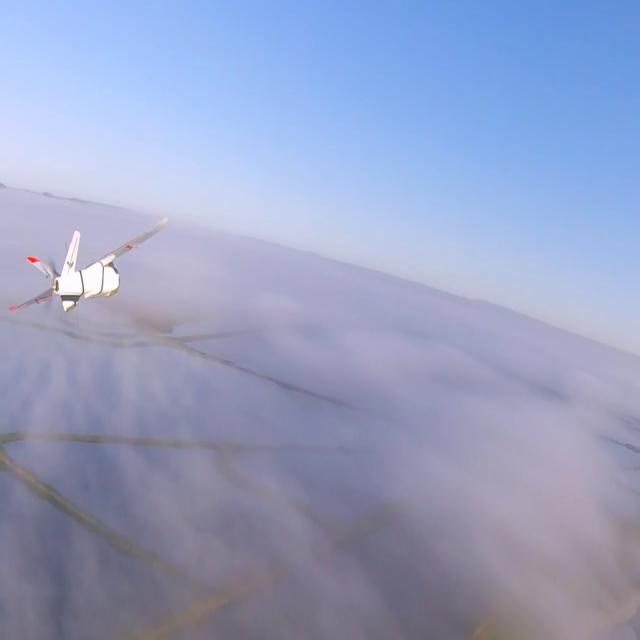iha: (0, 241, 104, 272)
